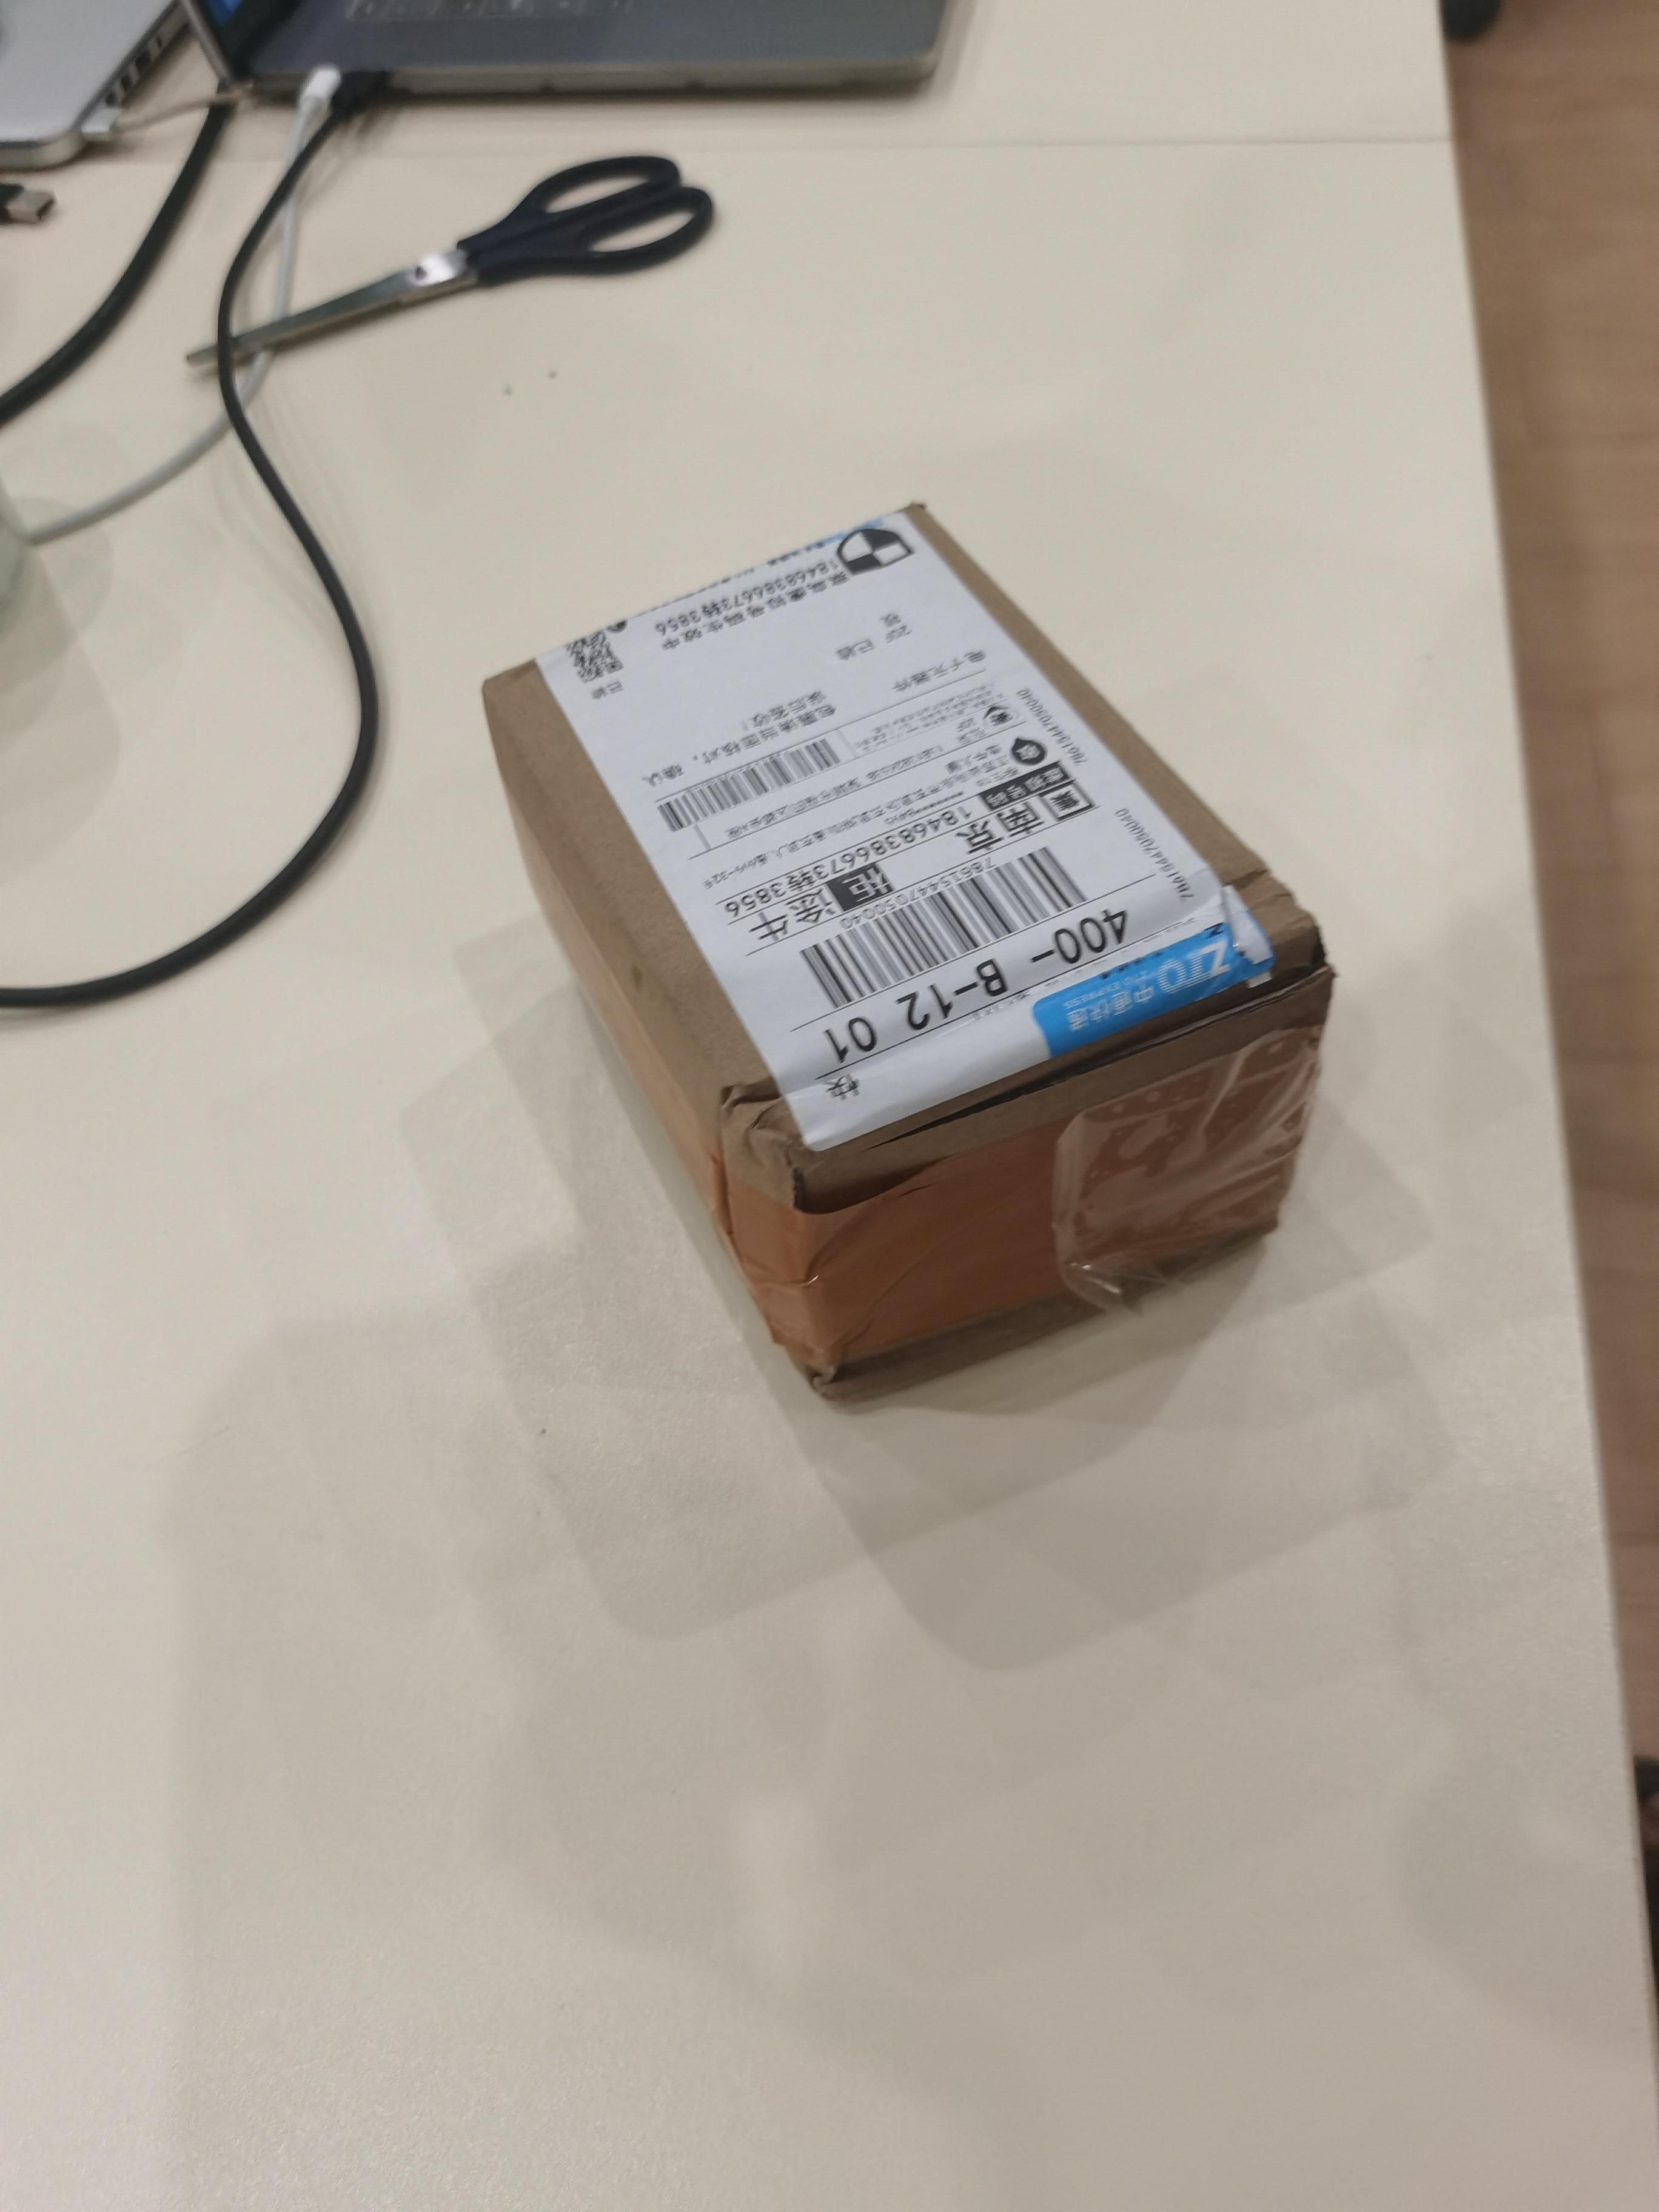box: (462, 495, 1351, 1430)
